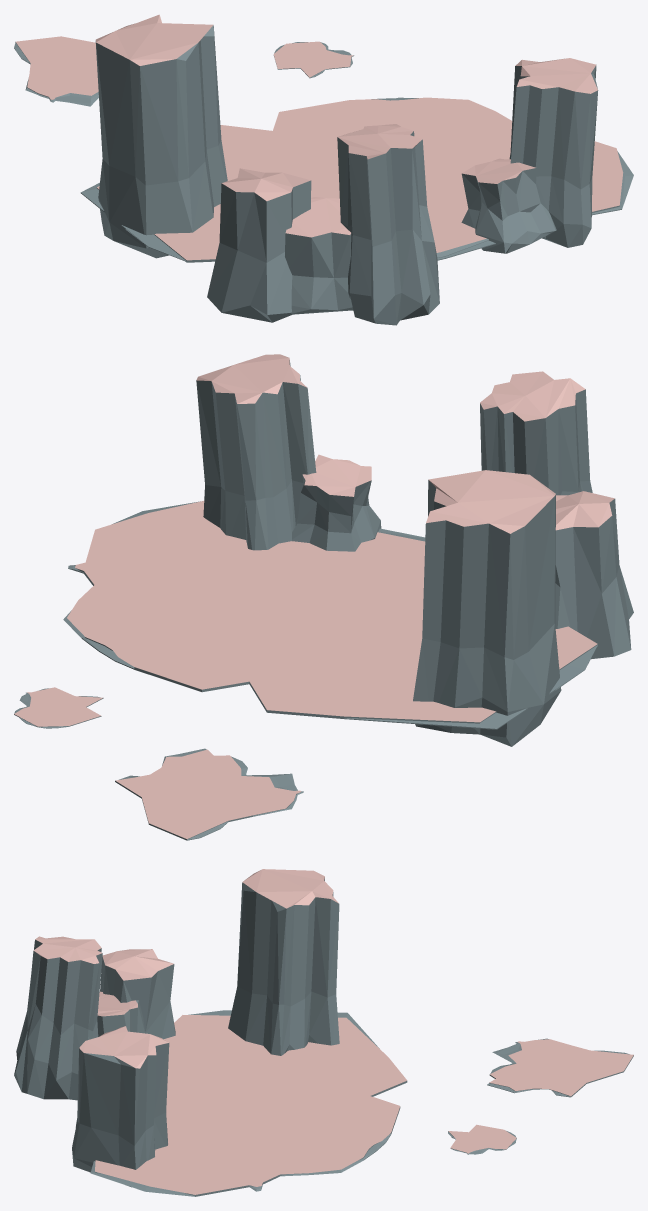
File: Egg_Hippogriff.fbx
3 renders of one model, top to bottom at view 1: azimuth 30°, elevation 25°; view 2: azimuth 150°, elevation 25°; view 3: azimuth 270°, elevation 25°, orthographic. The views are drawn at different scales.
Visible parts, largest first — view 1: Cube.402, Circle.002, Cube.403, Cube.404, Cube.265, Cube.264, Cube.401, Circle.008, Circle.007; view 2: Circle.002, Cube.402, Cube.404, Cube.403, Cube.265, Circle.008, Cube.401, Circle.007; view 3: Circle.002, Cube.402, Cube.404, Cube.403, Circle.008, Cube.265, Cube.264, Circle.007.
Boxes of the visible parts, box(x1,y1,x2,y2) form: Cube.402: box(95, 14, 227, 258); Circle.002: box(80, 97, 633, 262); Cube.403: box(337, 124, 439, 325); Cube.404: box(509, 58, 598, 247); Cube.265: box(207, 168, 311, 322); Cube.264: box(285, 197, 353, 314); Cube.401: box(461, 158, 556, 253); Circle.008: box(14, 36, 98, 106); Circle.007: box(273, 41, 354, 78); Circle.002: box(63, 501, 597, 729); Cube.402: box(413, 470, 561, 746); Cube.404: box(196, 354, 316, 550); Cube.403: box(480, 371, 592, 495); Cube.265: box(555, 491, 633, 659); Circle.008: box(115, 748, 303, 840); Cube.401: box(292, 454, 381, 551); Circle.007: box(14, 687, 103, 728); Circle.002: box(90, 1010, 407, 1196); Cube.402: box(228, 869, 339, 1055); Cube.404: box(72, 1026, 169, 1187); Cube.403: box(14, 936, 102, 1100); Circle.008: box(487, 1038, 633, 1097); Cube.265: box(100, 949, 175, 1039); Cube.264: box(97, 991, 145, 1036); Circle.007: box(448, 1124, 516, 1154).
Bounding box in the file's own units: 3526 × 1528 × 4962.
